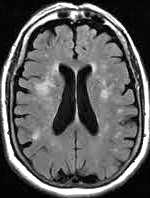Normal_Brain: (5, 4, 150, 198)
